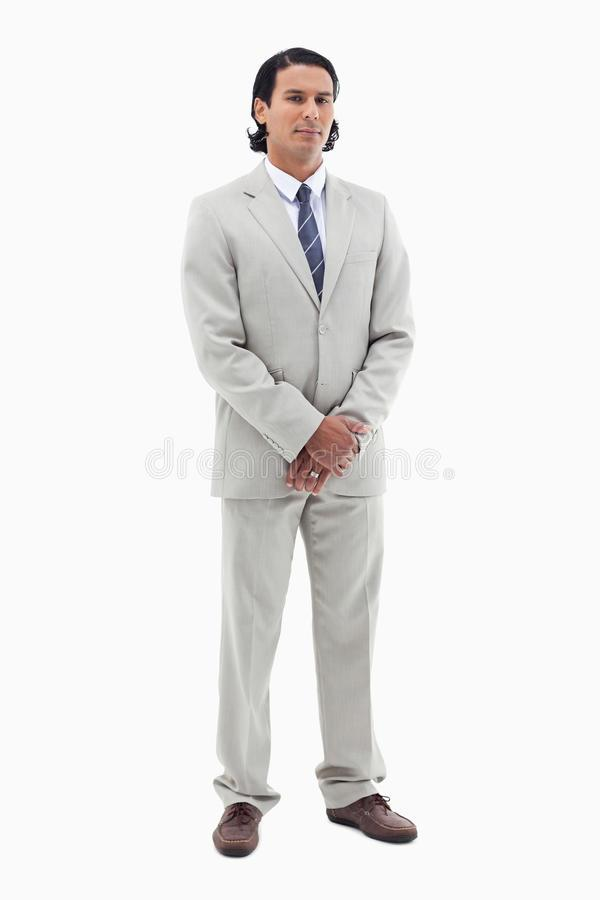No_Goggles: (272, 82, 338, 115)
No_Helmet: (259, 43, 341, 76)
